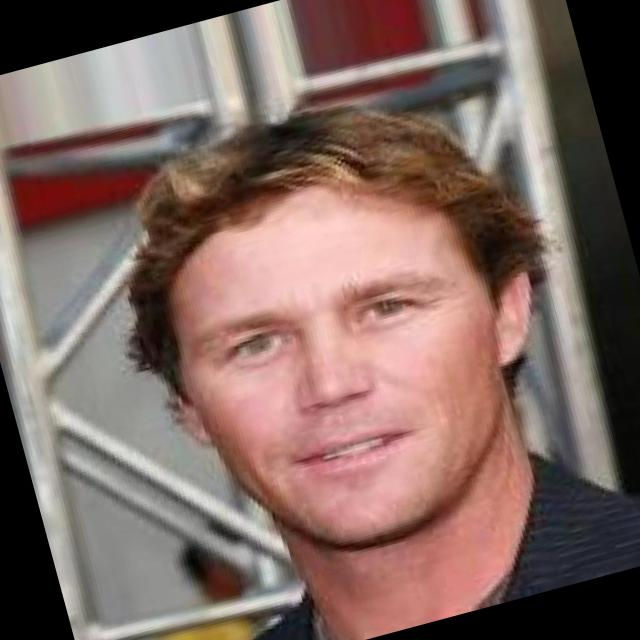bareface: (73, 100, 568, 600)
